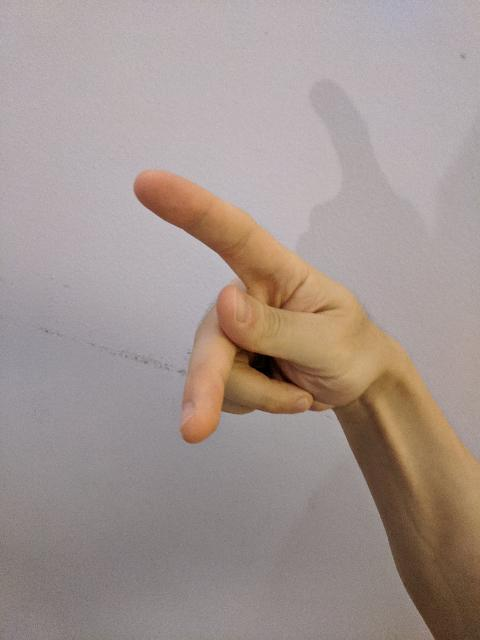P: (126, 164, 410, 450)
